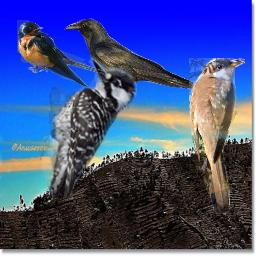Crow: (63, 18, 195, 107)
Cuckoo: (189, 58, 245, 214)
Swallow: (17, 20, 104, 86)
Woodpecker: (23, 55, 137, 198)
